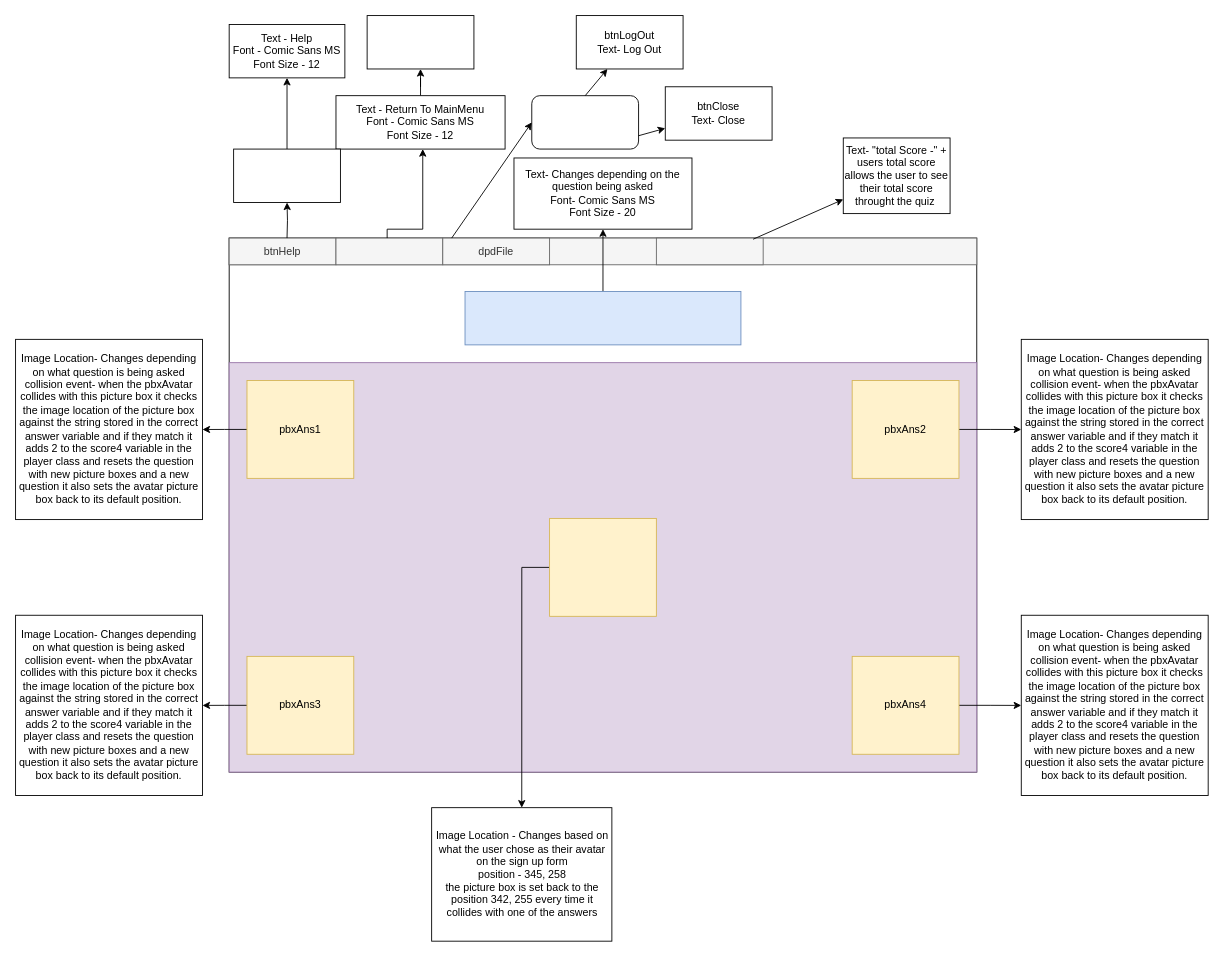
Some shapes in this 1224 by 957 pixel diagram are drawn without their labels. Here are the shapes that lost their labels. From the top down, the box of each, then its label:
(366, 15, 474, 69): brings the user back to the main menu and sets a variable so they can go back
(531, 95, 639, 149): Text- File contains btnClose and BtnLogOut
(233, 148, 340, 202): tells the user what they are supposed to do in the form
(335, 237, 443, 265): btnReturn
(655, 237, 763, 265): lblRunningScore
(464, 291, 741, 345): lblQuestion
(228, 362, 977, 772): pblQusetion4
(549, 518, 656, 616): pbxAvatar
